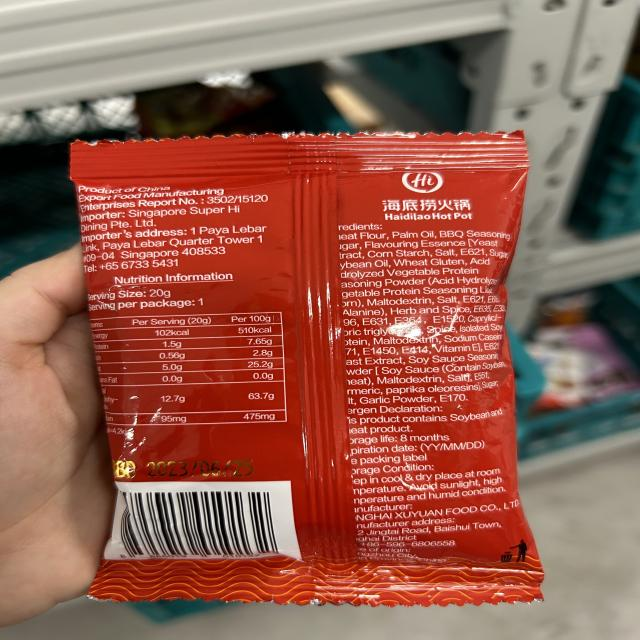object_name: (91, 141, 535, 602)
